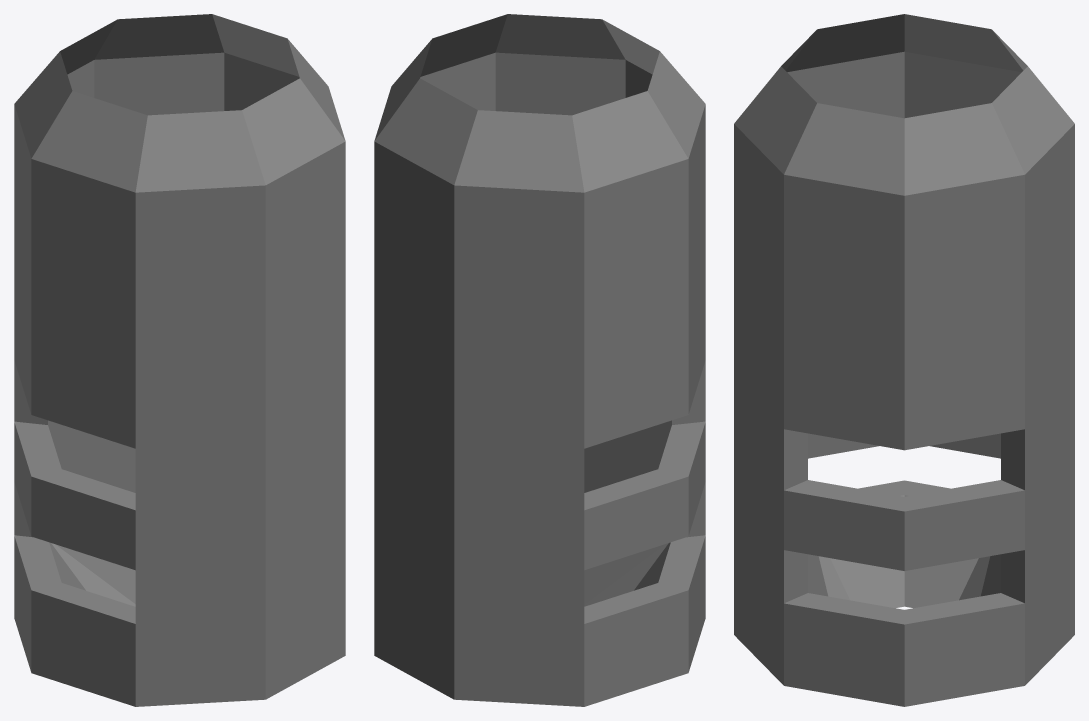
Rendered from SniperrifleCompensator.glb.
3 renders of one model, left to right at view 1: azimuth 30°, elevation 25°; view 2: azimuth 150°, elevation 25°; view 3: azimuth 270°, elevation 25°, orthographic.
Parts seen in each view (by area): view 1: SniperrifleCompensator; view 2: SniperrifleCompensator; view 3: SniperrifleCompensator.
Part boxes in pixels (left/top/right/bottom): SniperrifleCompensator: left=14, top=14, right=345, bottom=706; SniperrifleCompensator: left=374, top=14, right=705, bottom=706; SniperrifleCompensator: left=734, top=14, right=1074, bottom=706.
Size of the model in its own units: 0.034 by 0.0626 by 0.034.
1 material, 1 textured.
